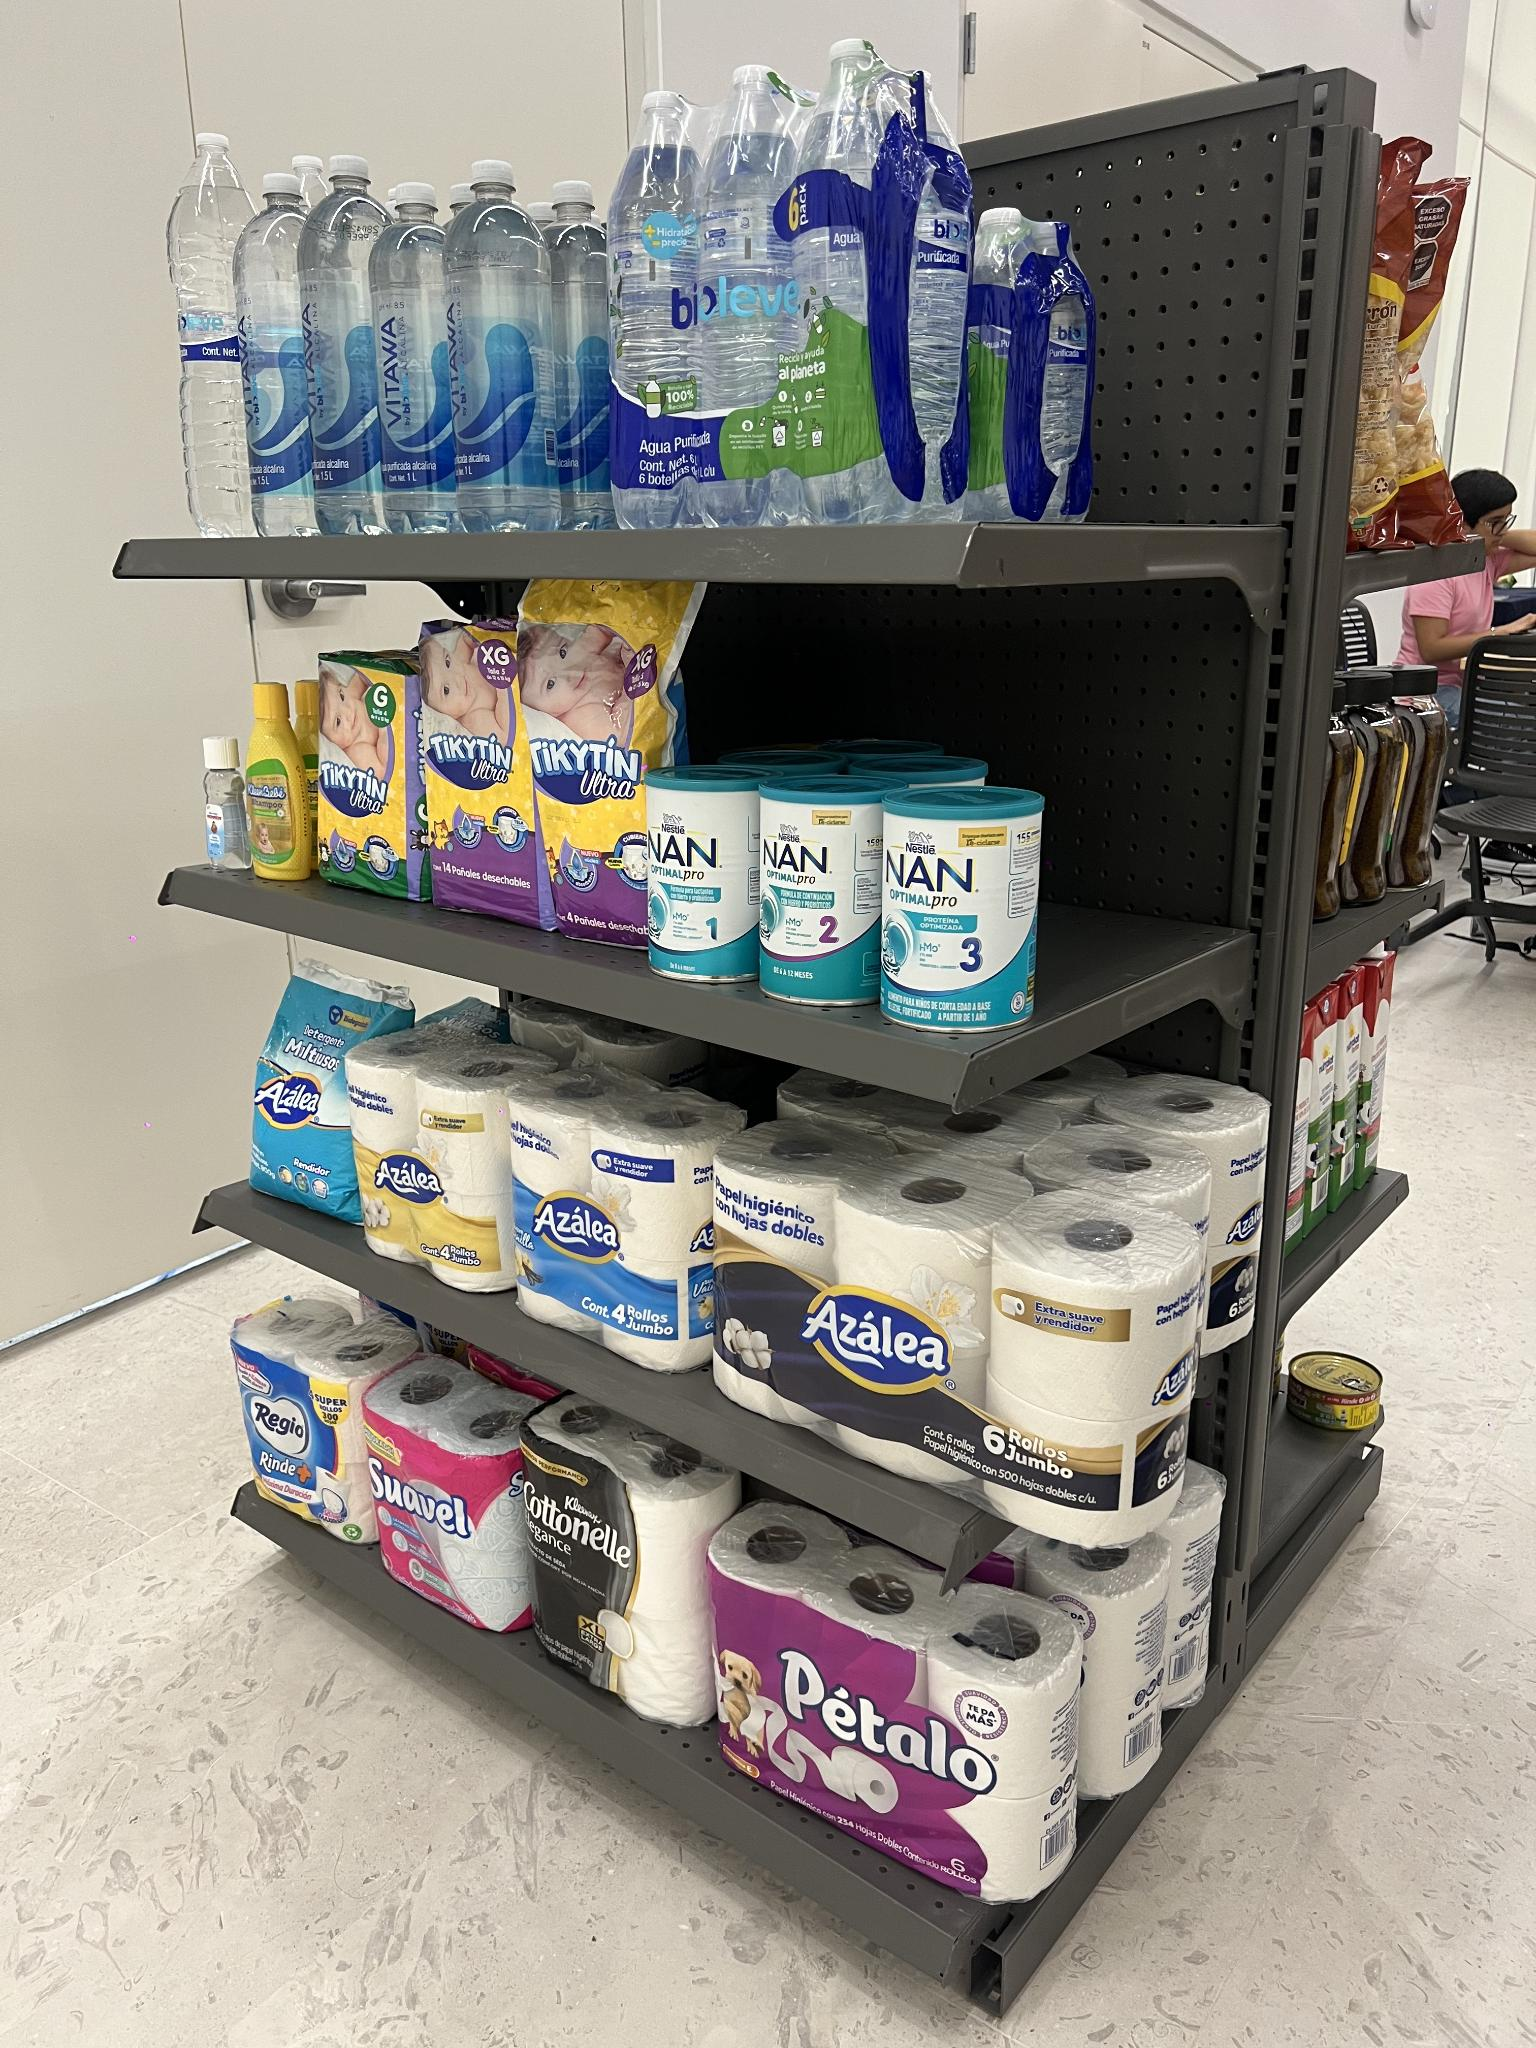aceite_bebe_mennen: (198, 734, 242, 871)
agua_bioleve: (160, 131, 237, 534)
agua_bioleve_6pack: (602, 37, 900, 521)
agua_vitawa_1L: (442, 156, 565, 529), (369, 184, 450, 531)
agua_vitawa_1_5L: (307, 155, 379, 537), (234, 173, 302, 535)
detergente_azaela: (248, 961, 352, 1218)
nan_nestle_1: (642, 769, 757, 984)
nan_nestle_2: (752, 772, 876, 1005)
nan_nestle_3: (874, 792, 1000, 1035)
panales_tikytin_extragrande: (513, 579, 657, 947), (415, 618, 536, 924)
panales_tikytin_grande: (313, 650, 418, 901)
papelhigenico_azaela_6rollos: (710, 1153, 1139, 1556)
papelhigenico_azaela_amarillo: (345, 1061, 502, 1295)
papelhigenico_azaela_azul: (503, 1100, 689, 1372)
papelhigenico_kleenex_cottonelle: (518, 1421, 691, 1729)
papelhigenico_petalo: (700, 1556, 1037, 1903)
papelhigenico_regio: (223, 1327, 358, 1540)
papelhigenico_suavel: (366, 1392, 516, 1635)
shampoo_bebe: (247, 679, 311, 880)
